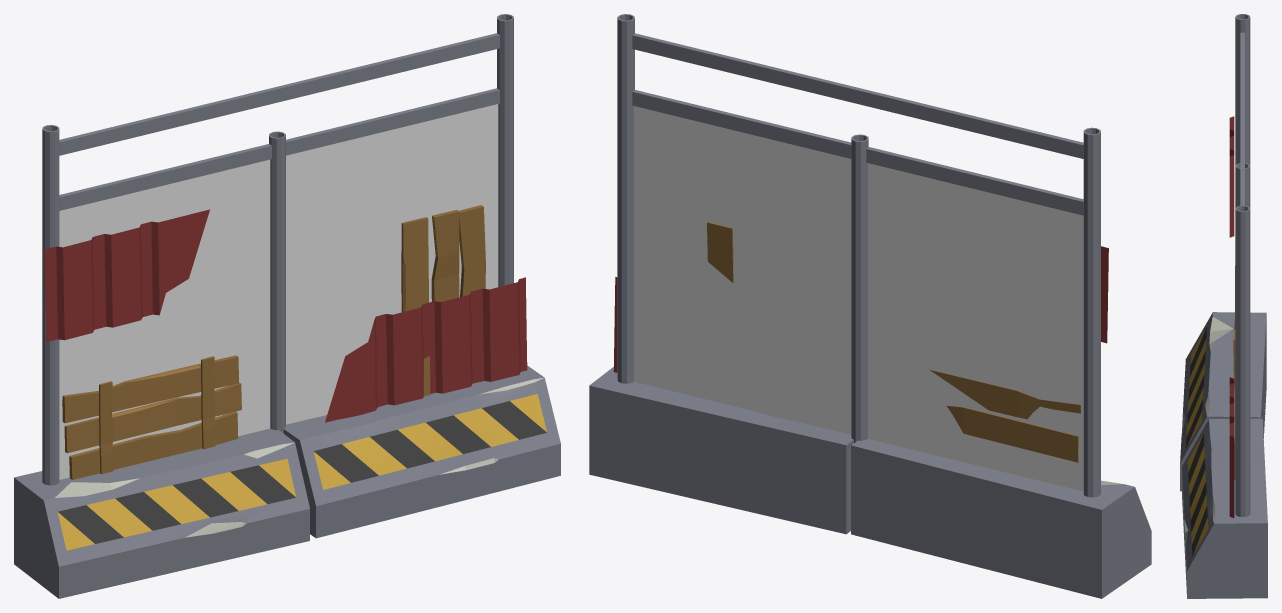
Rendered from Barrier_Fixed.fbx.
3 views of the same model, side by side, from view 1: azimuth 30°, elevation 25°; view 2: azimuth 150°, elevation 25°; view 3: azimuth 270°, elevation 25° (orthographic). The views are drawn at different scales.
Parts seen in each view (by area): view 1: Barrier_Fixed; view 2: Barrier_Fixed; view 3: Barrier_Fixed.
Part boxes in pixels (x1,y1,x2,y2): Barrier_Fixed: [14, 14, 560, 598]; Barrier_Fixed: [589, 14, 1151, 598]; Barrier_Fixed: [1180, 14, 1267, 598].
Bounding box in the file's own units: 381 × 318 × 66.66.
